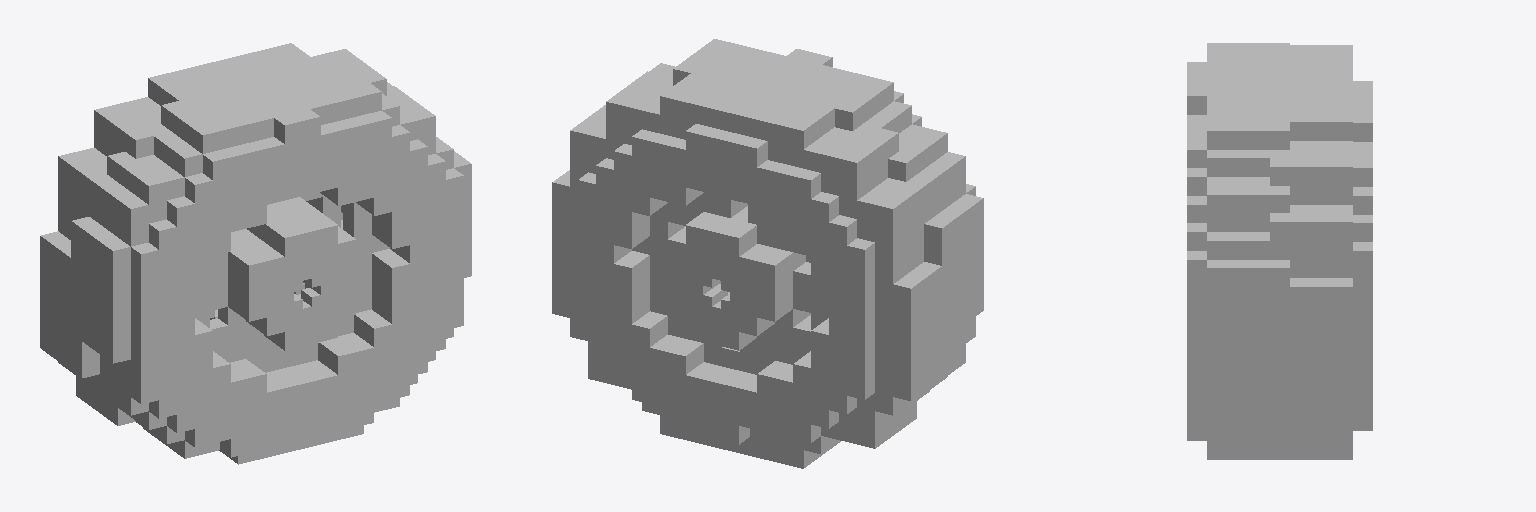
File: wheel_left.obj
3 views of the same model, side by side, from view 1: azimuth 30°, elevation 25°; view 2: azimuth 150°, elevation 25°; view 3: azimuth 270°, elevation 25° (orthographic).
Parts seen in each view (by area): view 1: wheel; view 2: wheel; view 3: wheel.
Boxes of the visible parts, x1=… form: wheel: x1=40, y1=43, x2=471, y2=464; wheel: x1=552, y1=39, x2=983, y2=468; wheel: x1=1187, y1=43, x2=1372, y2=459.
Size of the model in its own units: 8 by 7.2 by 3.6.